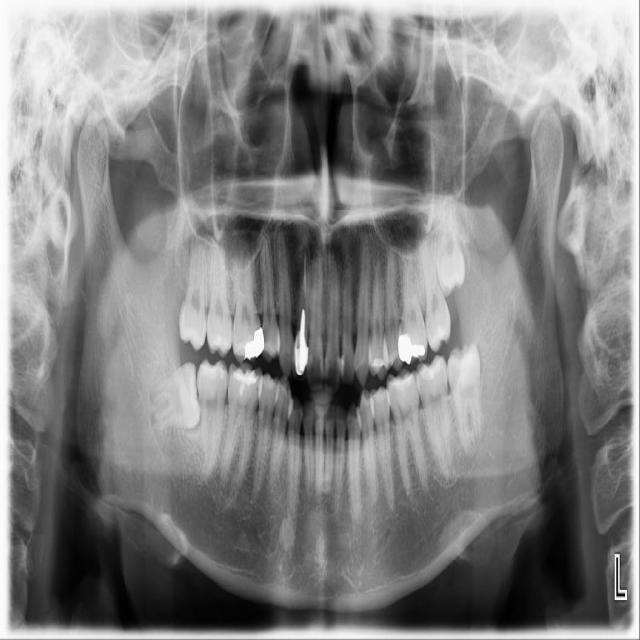3M ESPE Implant: (177, 227, 207, 354)
52: (222, 358, 268, 410), (227, 310, 268, 365), (398, 318, 428, 365), (292, 334, 309, 380)
73: (295, 250, 315, 339), (613, 560, 625, 574)
BioHorizons Implant: (415, 226, 454, 354)
BioLife Implant: (434, 189, 466, 297)
Biomet 3i Implant: (447, 343, 482, 457)
Blue Sky Bio Implant: (415, 353, 453, 479)
Caries: (206, 243, 233, 355)
Implant: (192, 357, 229, 485)
Keystone Dental Implant: (148, 361, 203, 433)
